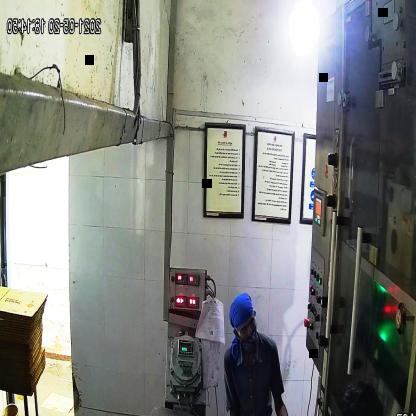goggles: (237, 310, 258, 340)
